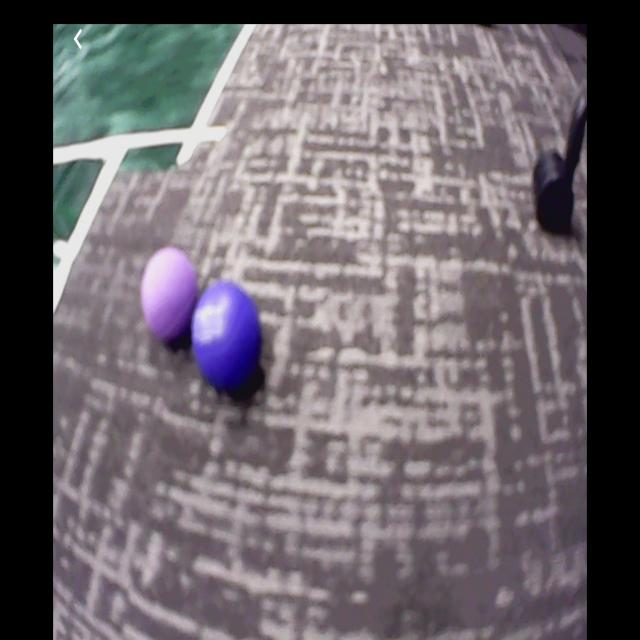ball: (190, 281, 262, 391), (140, 246, 196, 346)
